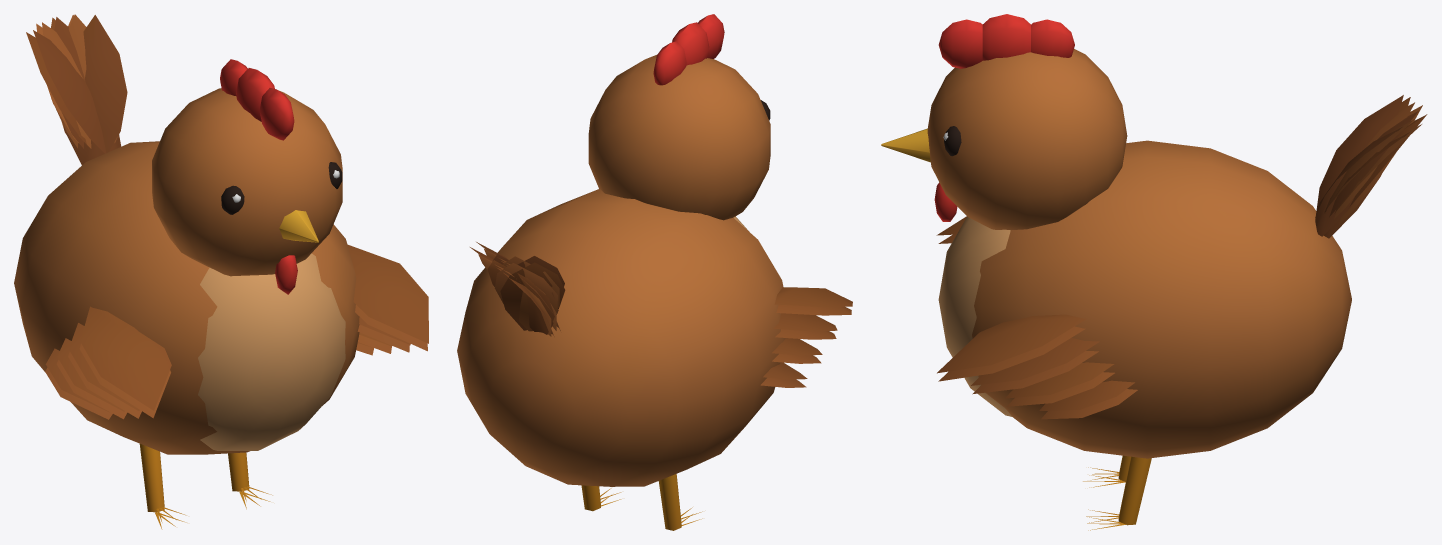
The model's file is flock-hen.glb.
3 views of the same model, side by side, from view 1: azimuth 30°, elevation 25°; view 2: azimuth 150°, elevation 25°; view 3: azimuth 270°, elevation 25° (orthographic). The views are drawn at different scales.
Visible parts, largest first — view 1: flock-hen; view 2: flock-hen; view 3: flock-hen.
Boxes of the visible parts, left/top/right/bottom form: flock-hen: left=14, top=14, right=428, bottom=529; flock-hen: left=457, top=14, right=852, bottom=530; flock-hen: left=881, top=14, right=1427, bottom=530.
Size of the model in its own units: 0.3877 by 0.5372 by 0.5442.
